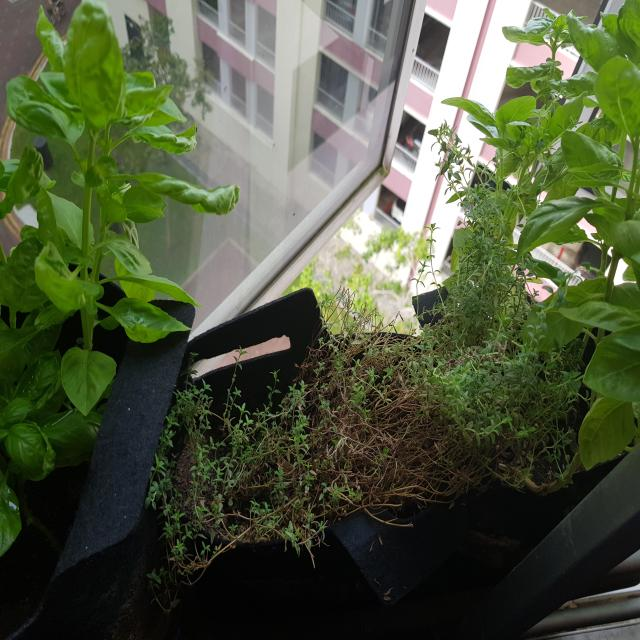Sweet Basil: (2, 5, 234, 356), (485, 3, 640, 234)
Thyme: (161, 327, 496, 520)
